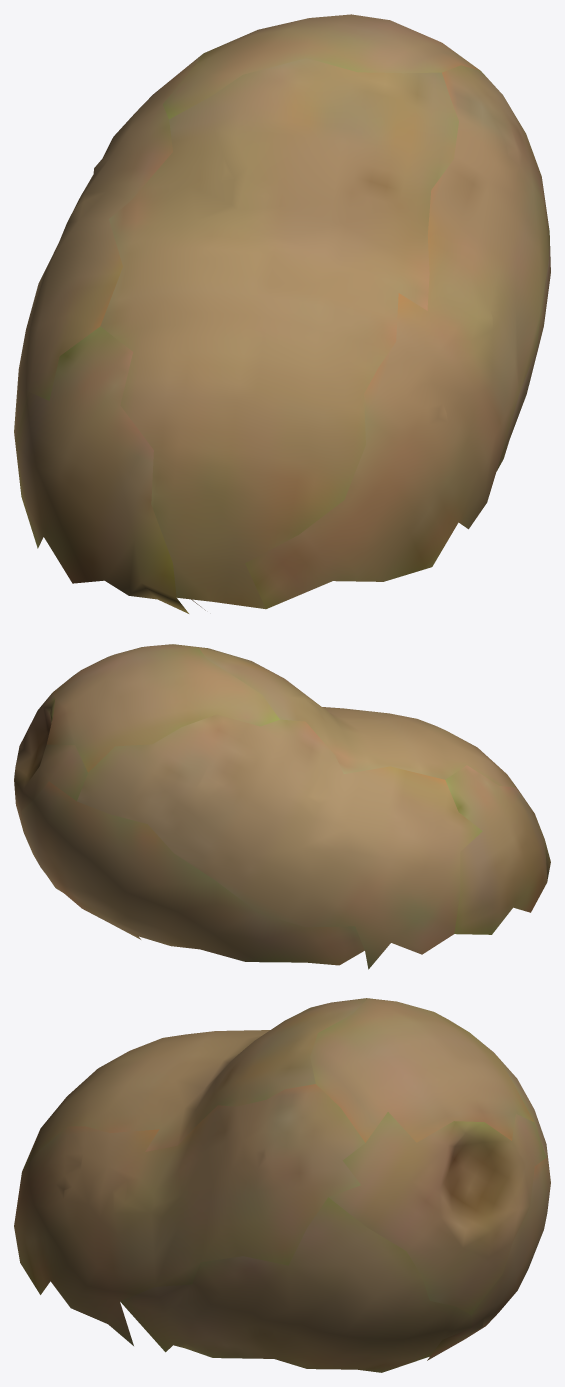
Rendered from batata.glb.
The picture shows the model from 3 angles, top to bottom: view 1: azimuth 30°, elevation 25°; view 2: azimuth 150°, elevation 25°; view 3: azimuth 270°, elevation 25°; orthographic projection. The views are drawn at different scales.
Parts seen in each view (by area): view 1: batata; view 2: batata; view 3: batata.
Boxes of the visible parts, x1,y1,x2,y2 form: batata: [14, 14, 550, 613]; batata: [14, 644, 550, 969]; batata: [14, 998, 550, 1372].
Bounding box in the file's own units: 0.1294 × 0.0804 × 0.1235.
Materials: 1 (1 with a texture image).
